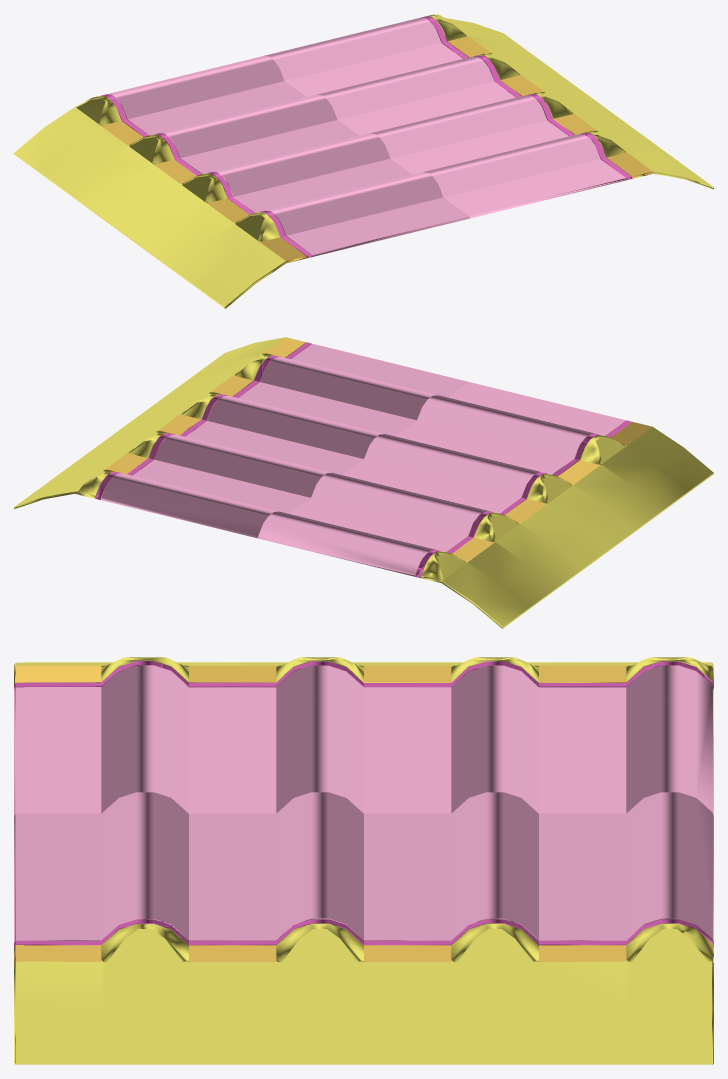
The model's file is RaceTrack_clean_business_prop_uee_17.glb.
3 views of the same model, one above another, from view 1: azimuth 30°, elevation 25°; view 2: azimuth 150°, elevation 25°; view 3: azimuth 270°, elevation 25° (orthographic). The views are drawn at different scales.
Size of the model in its own units: 8 by 0.7119 by 6.
